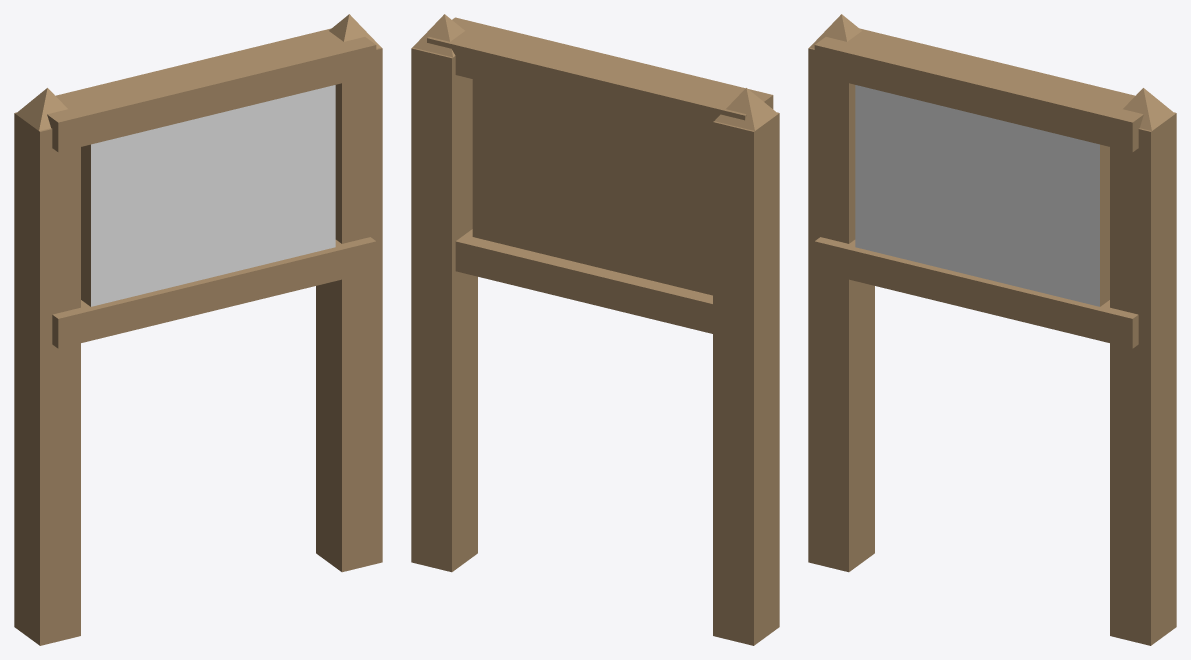
Rendered from hole_sign_01.glb.
3 views of the same model, side by side, from view 1: azimuth 30°, elevation 25°; view 2: azimuth 150°, elevation 25°; view 3: azimuth 330°, elevation 25° (orthographic).
Parts seen in each view (by area): view 1: Hole_sign_01; view 2: Hole_sign_01; view 3: Hole_sign_01.
Boxes of the visible parts, x1=… form: Hole_sign_01: x1=14, y1=14, x2=382, y2=645; Hole_sign_01: x1=411, y1=14, x2=779, y2=645; Hole_sign_01: x1=808, y1=14, x2=1176, y2=645.
Bounding box in the file's own units: 0.84 × 1.27 × 0.135.
